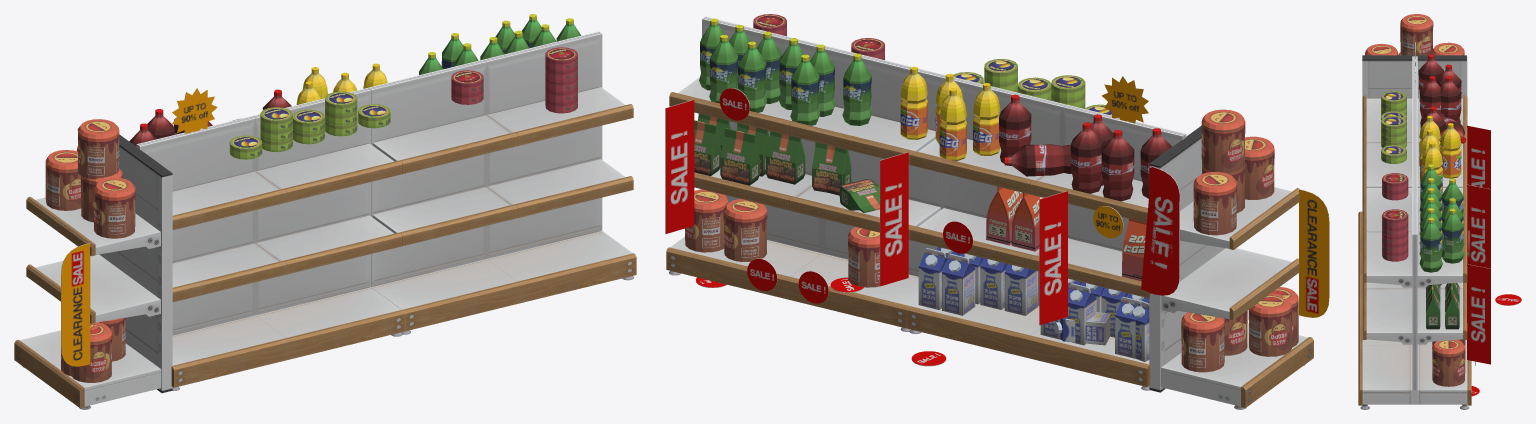
The model's file is Market_10.obj.
3 views of the same model, side by side, from view 1: azimuth 30°, elevation 25°; view 2: azimuth 150°, elevation 25°; view 3: azimuth 270°, elevation 25° (orthographic). The views are drawn at different scales.
Size of the model in its own units: 4.95 by 2.18 by 1.55.
Materials: 100 (100 with a texture image).
